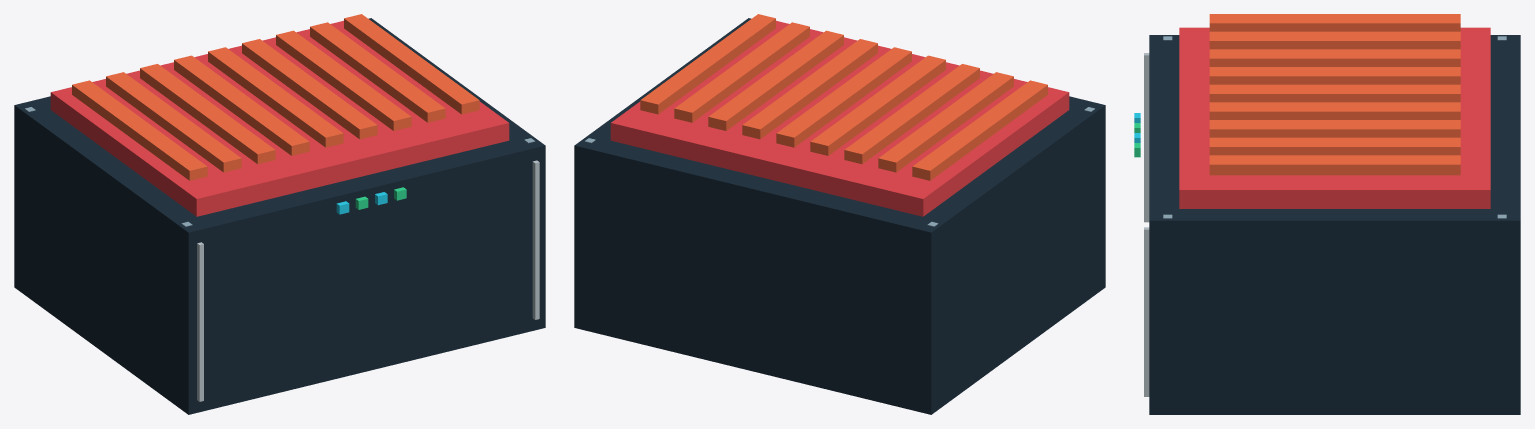
Rendered from 58_L79_ChipletRejectQuarantineBin.fbx.
3 views of the same model, side by side, from view 1: azimuth 30°, elevation 25°; view 2: azimuth 150°, elevation 25°; view 3: azimuth 270°, elevation 25° (orthographic). The views are drawn at different scales.
Parts seen in each view (by area): view 1: ChipletRejectQuarantineBin; view 2: ChipletRejectQuarantineBin; view 3: ChipletRejectQuarantineBin.
Boxes of the visible parts, x1=… form: ChipletRejectQuarantineBin: x1=14, y1=14, x2=545, y2=414; ChipletRejectQuarantineBin: x1=574, y1=14, x2=1105, y2=414; ChipletRejectQuarantineBin: x1=1134, y1=14, x2=1520, y2=414.
Size of the model in its own units: 168 by 97.25 by 148.
